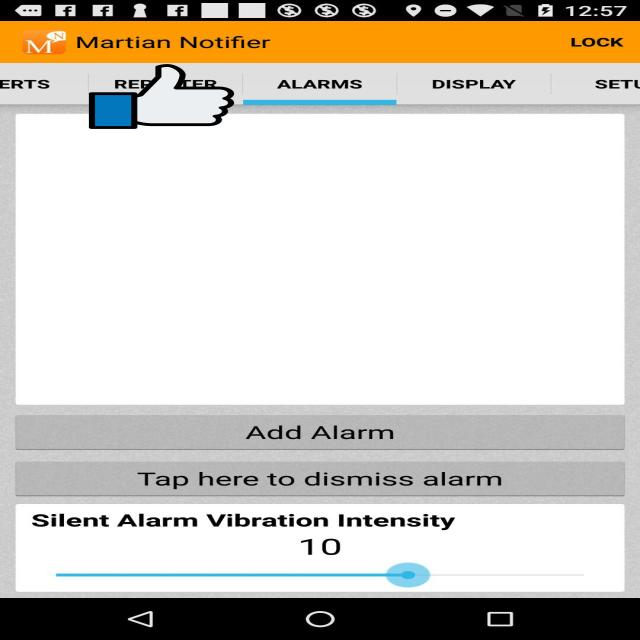privacy zuckering: (89, 63, 234, 130)
